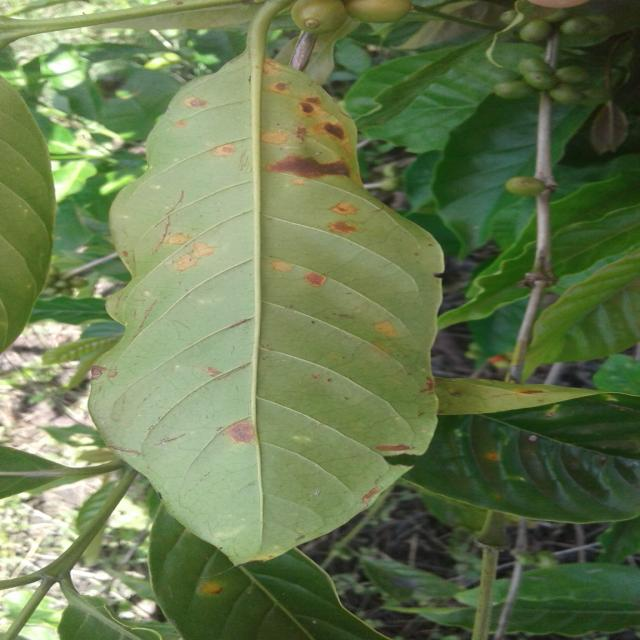Enfermedad-Roya: (87, 0, 444, 568)
